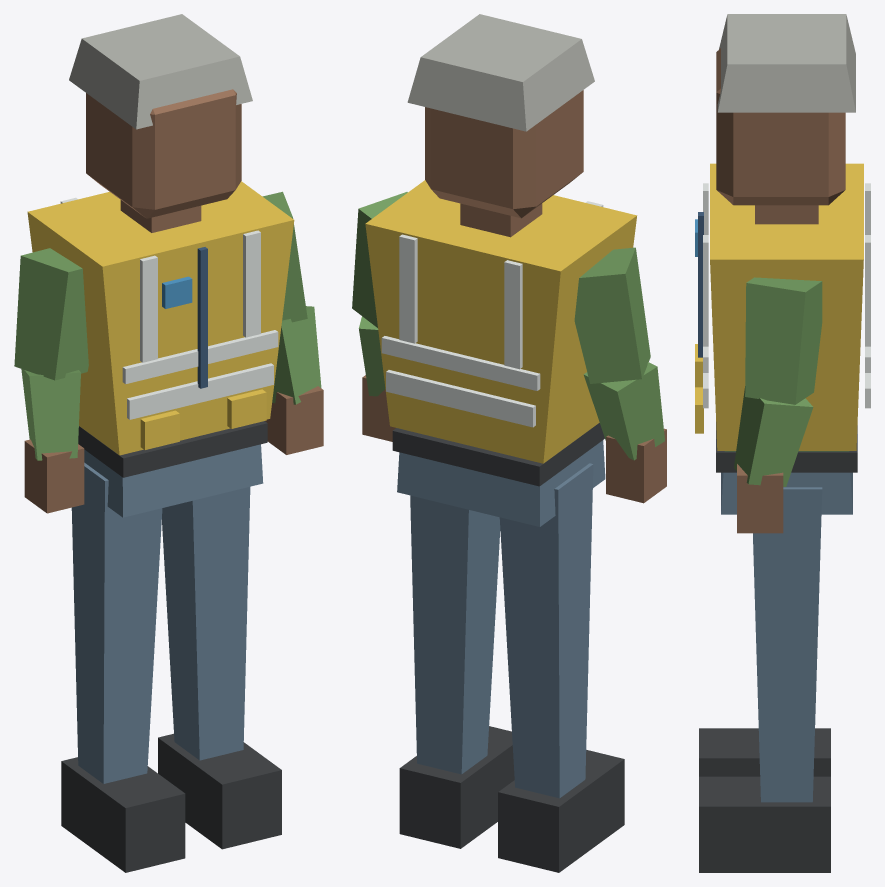
The model's file is Municipal_Worker_03_Yellow_Vest.fbx.
3 renders of one model, left to right at view 1: azimuth 30°, elevation 25°; view 2: azimuth 150°, elevation 25°; view 3: azimuth 270°, elevation 25°, orthographic. The views are drawn at different scales.
Visible parts, largest first — view 1: Municipal_Worker_03_Yellow_Vest_Mesh; view 2: Municipal_Worker_03_Yellow_Vest_Mesh; view 3: Municipal_Worker_03_Yellow_Vest_Mesh.
Boxes of the visible parts, left/top/right/bottom form: Municipal_Worker_03_Yellow_Vest_Mesh: left=14, top=14, right=323, bottom=872; Municipal_Worker_03_Yellow_Vest_Mesh: left=352, top=14, right=666, bottom=872; Municipal_Worker_03_Yellow_Vest_Mesh: left=695, top=14, right=870, bottom=872.
Bounding box in the file's own units: 71.17 × 185 × 37.1.
